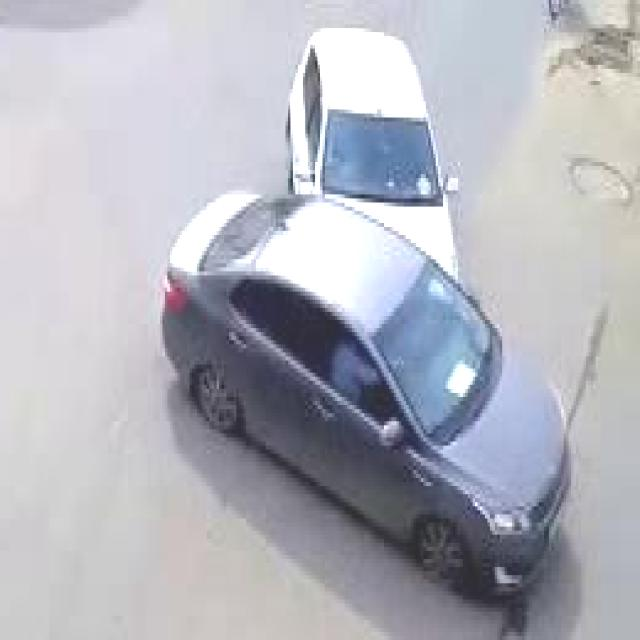accident: (157, 30, 568, 598)
